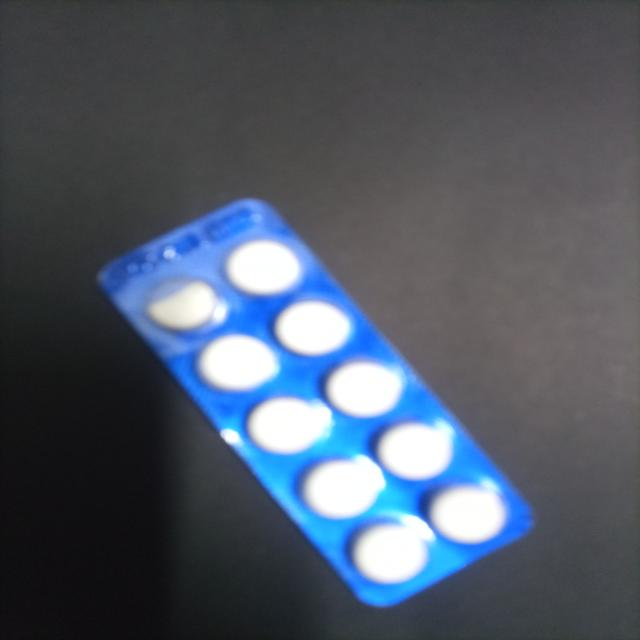defect: (142, 274, 226, 335)
